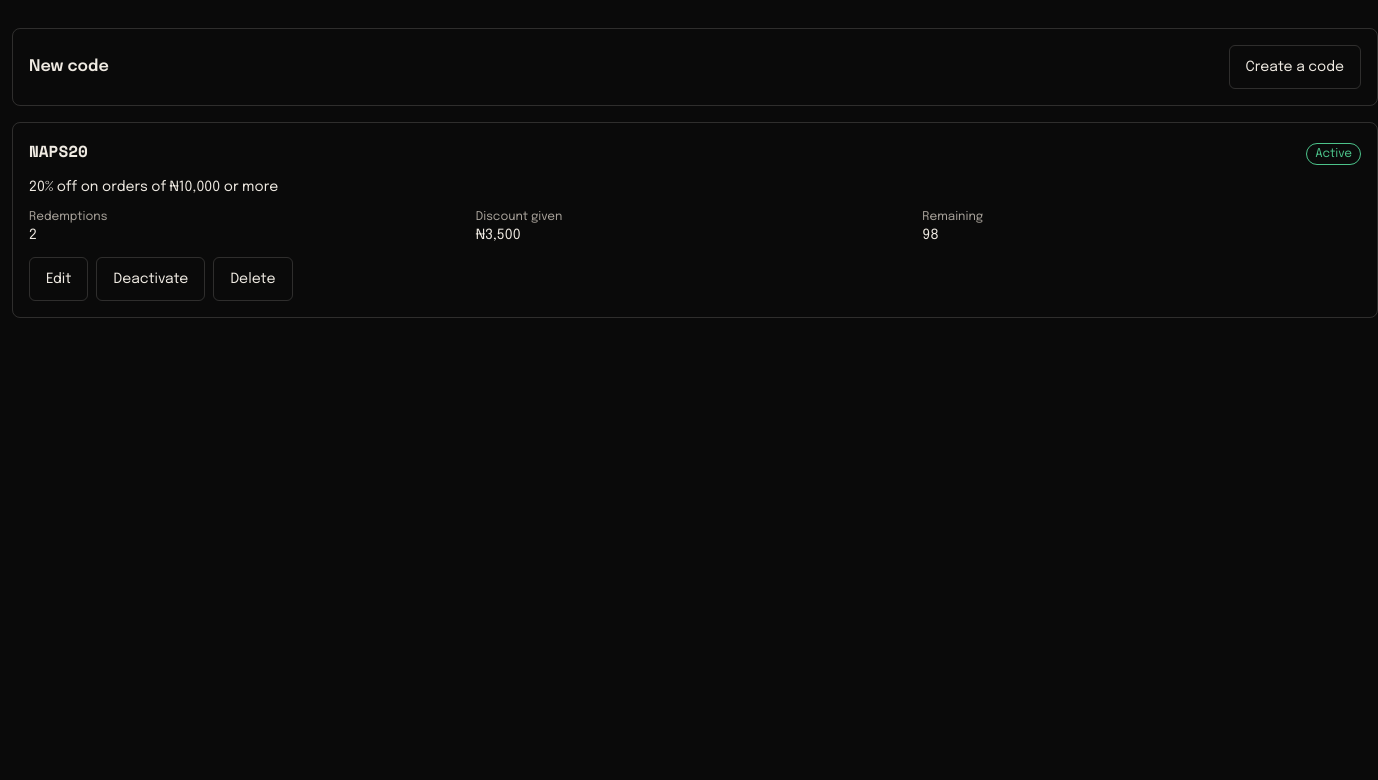
Scenario: PromoCodes › edits, deactivates and refuses to delete a used code
The image size is (1378, 780).
Click the button with aria-label "Edit NAPS20".
click(59, 279)  # box [29,257,88,301]
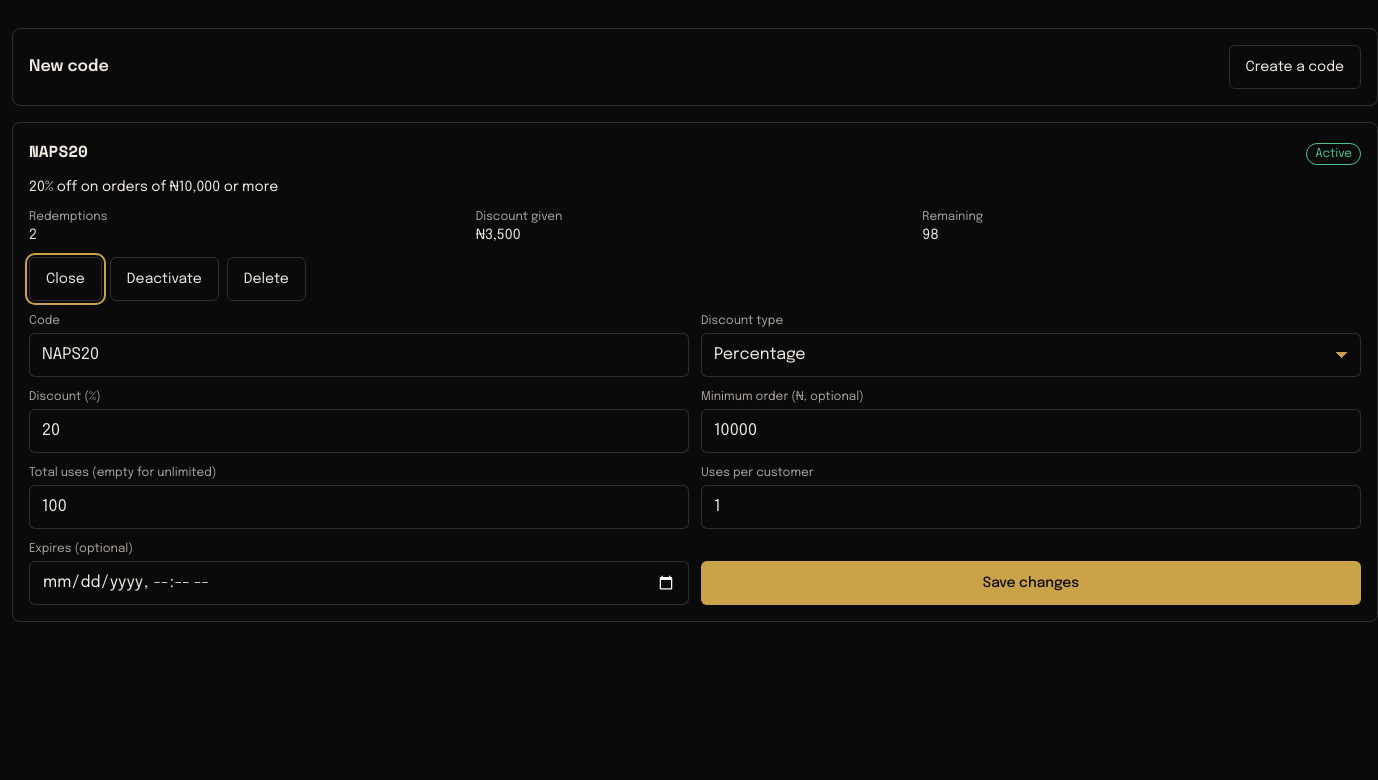
Replace the text in the number field labelled "Discount (%)" with "25" at coordinates (359, 431), box [29,409,689,453]
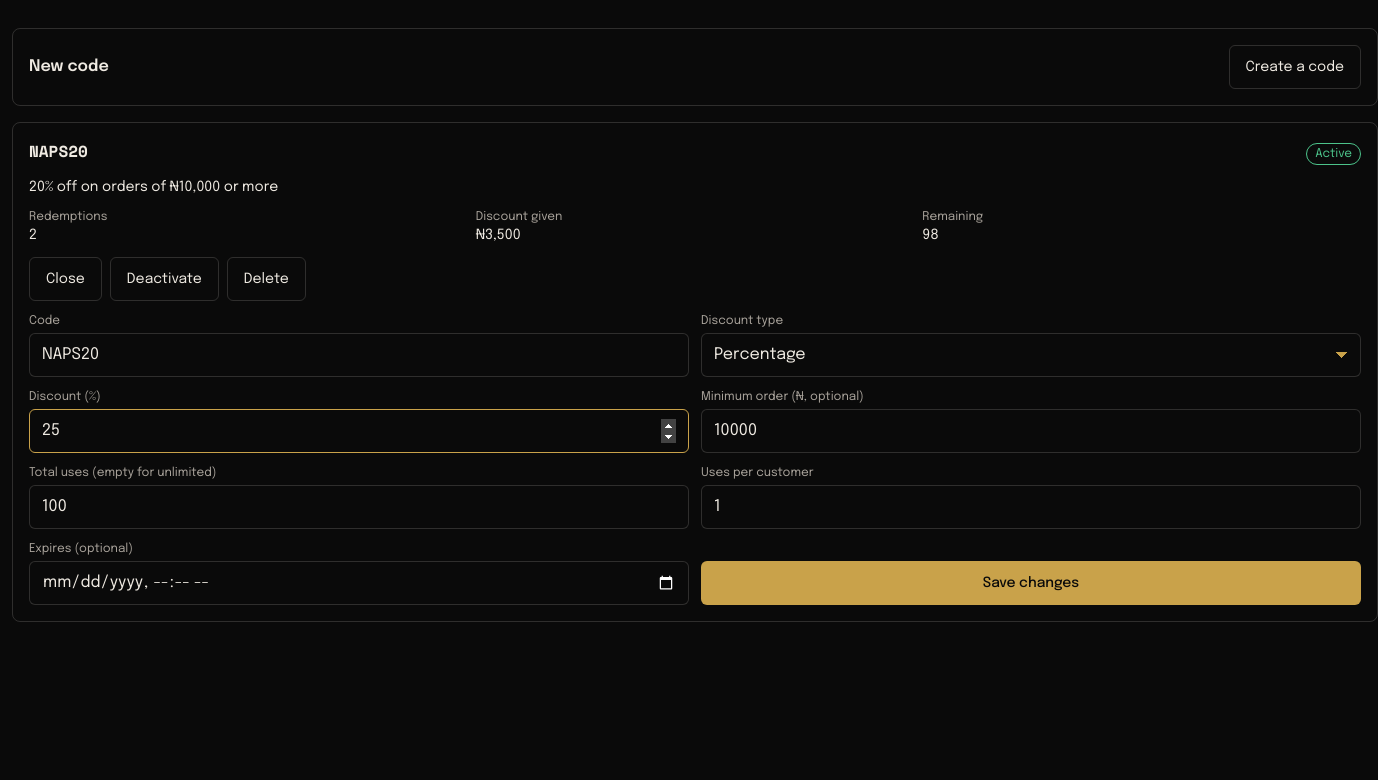
Click the button "Save changes".
click(1031, 583)  # box [701,561,1361,605]
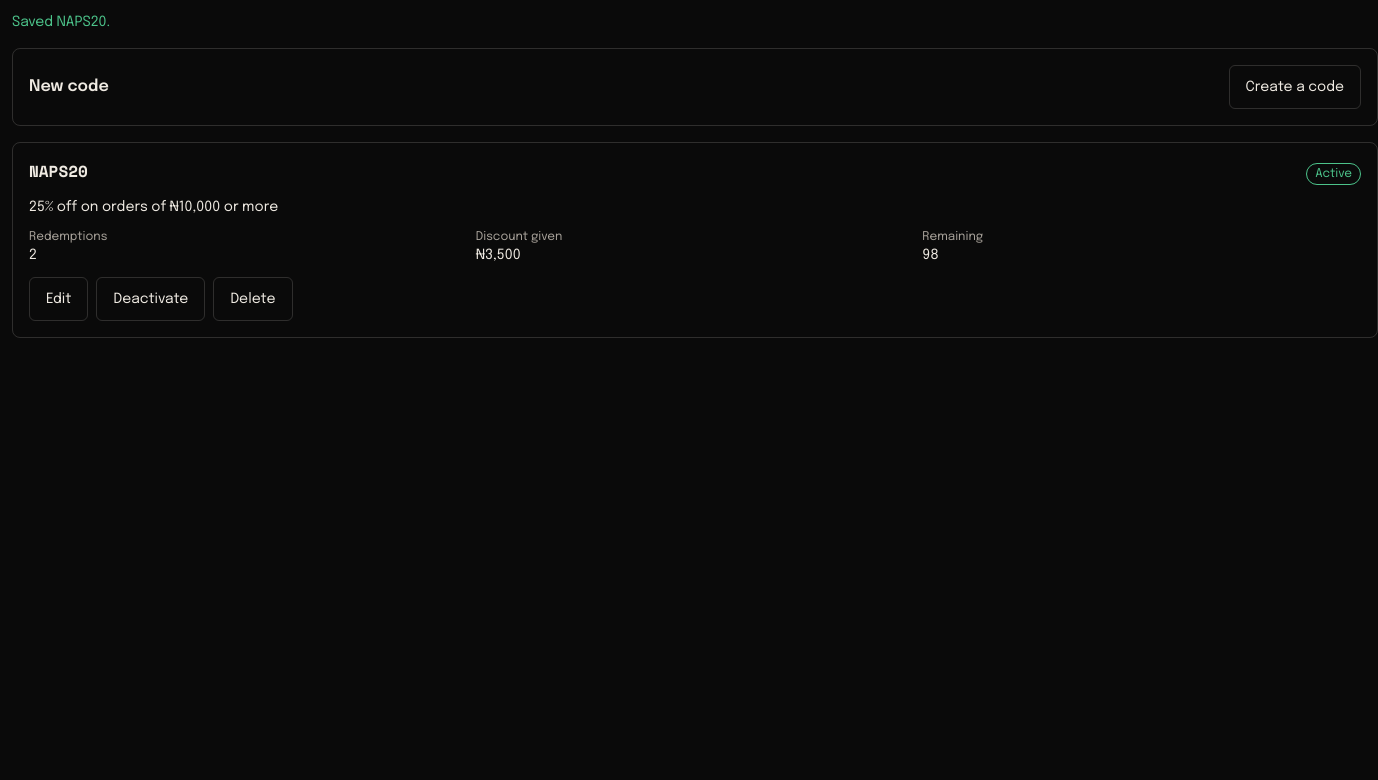
Result: the text "Saved NAPS20." is shown at [12,15,110,29]
Click the button with aria-label "Deactivate NAPS20".
click(151, 299)  # box [96,277,205,321]
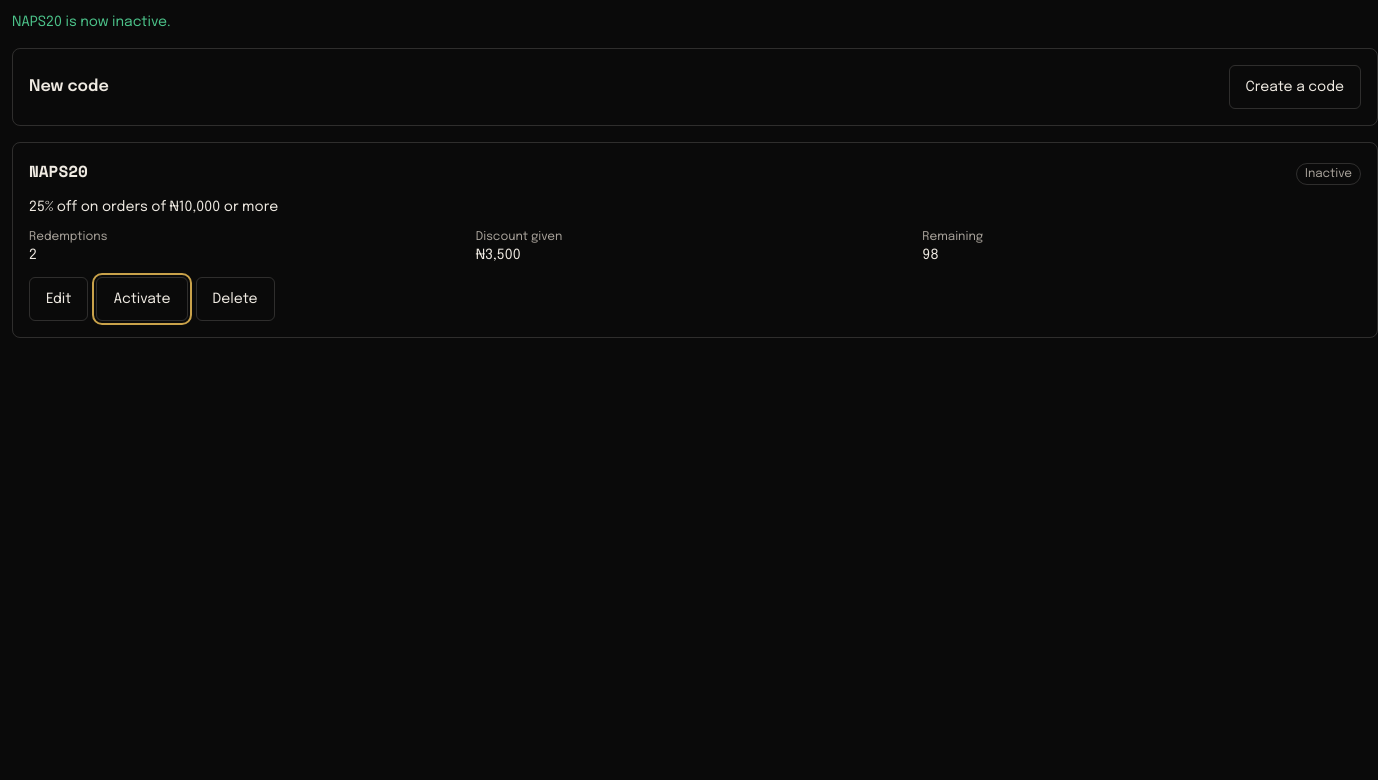
Result: the text "NAPS20 is now inactive." is shown at [12,15,171,29]
Click the button with aria-label "Delete NAPS20".
click(235, 299)  # box [196,277,275,321]
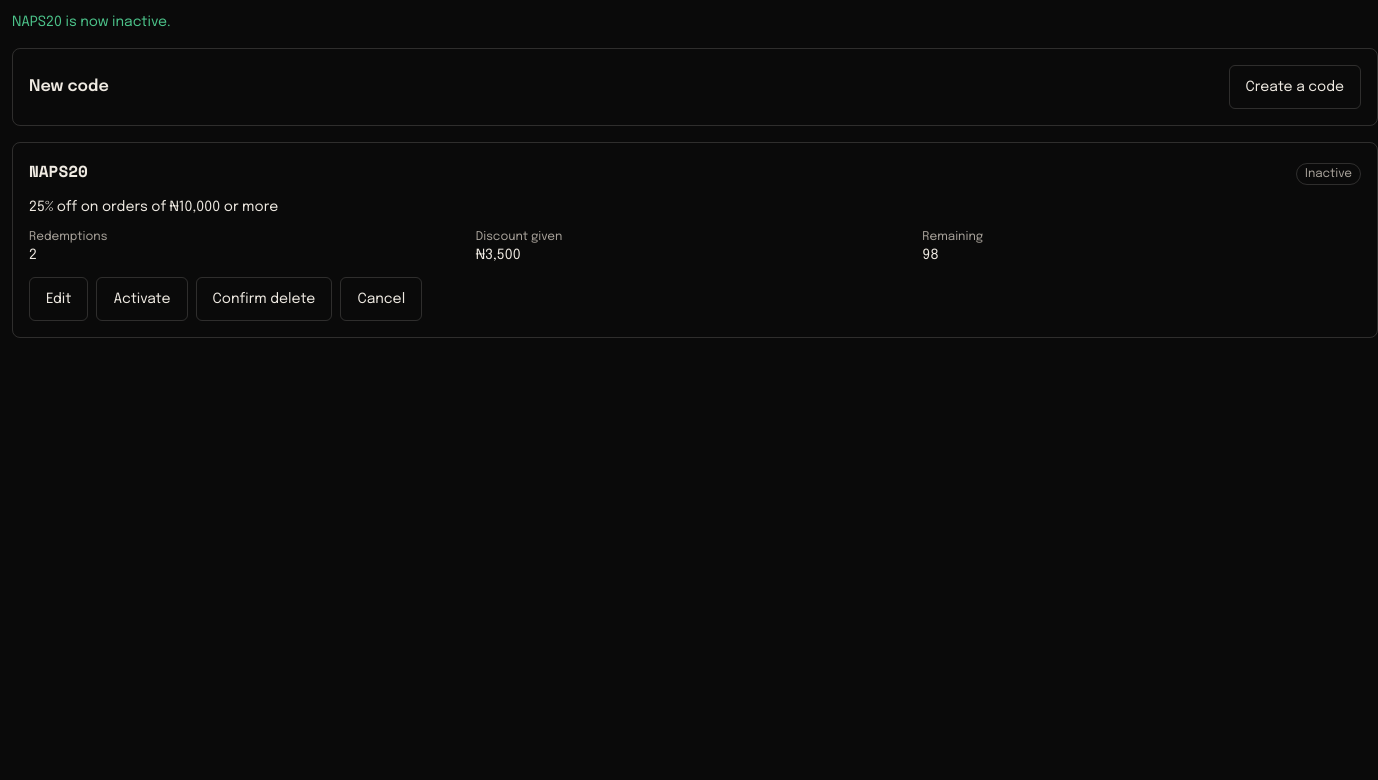
Click the button "Confirm delete".
click(264, 299)  # box [196,277,332,321]
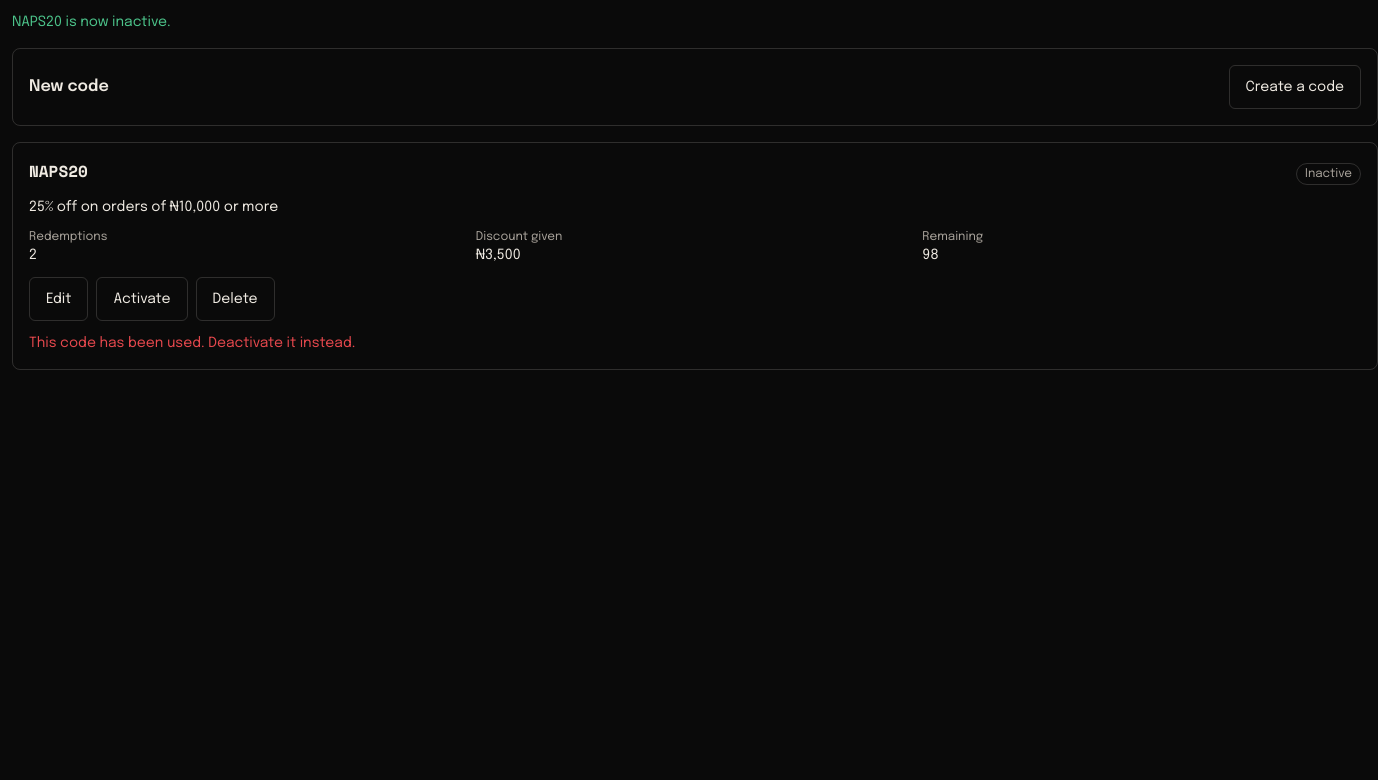
Result: the message shows "Deactivate it instead" at [29,336,355,350]
